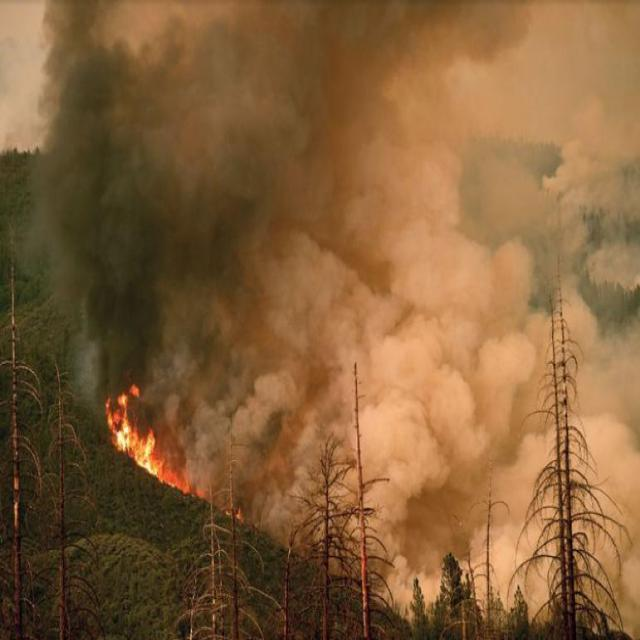Fire: (98, 381, 194, 492)
